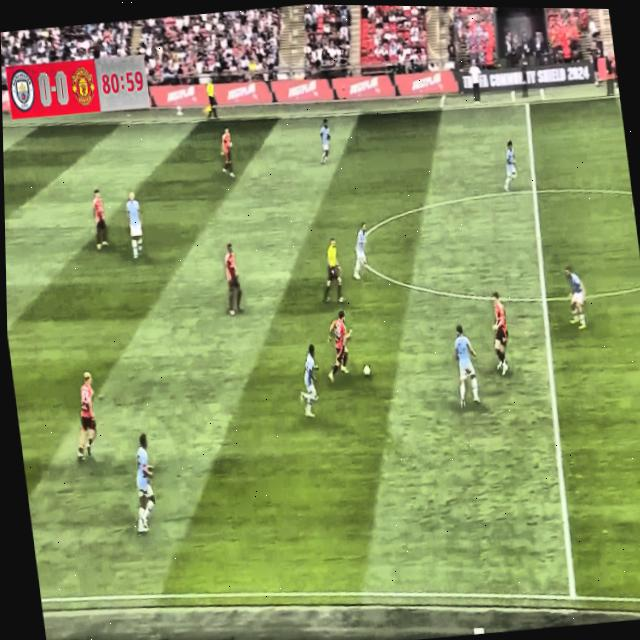ball: (358, 362, 374, 383)
players: (120, 428, 164, 538), (64, 367, 108, 469), (447, 319, 484, 419), (317, 304, 359, 387), (289, 341, 330, 423), (485, 285, 519, 380), (558, 255, 591, 335), (119, 186, 150, 263), (341, 213, 374, 284), (219, 239, 248, 318), (494, 136, 525, 195), (89, 185, 115, 254), (215, 113, 240, 183), (315, 117, 336, 166)
refree: (312, 219, 350, 309), (199, 62, 223, 128)
